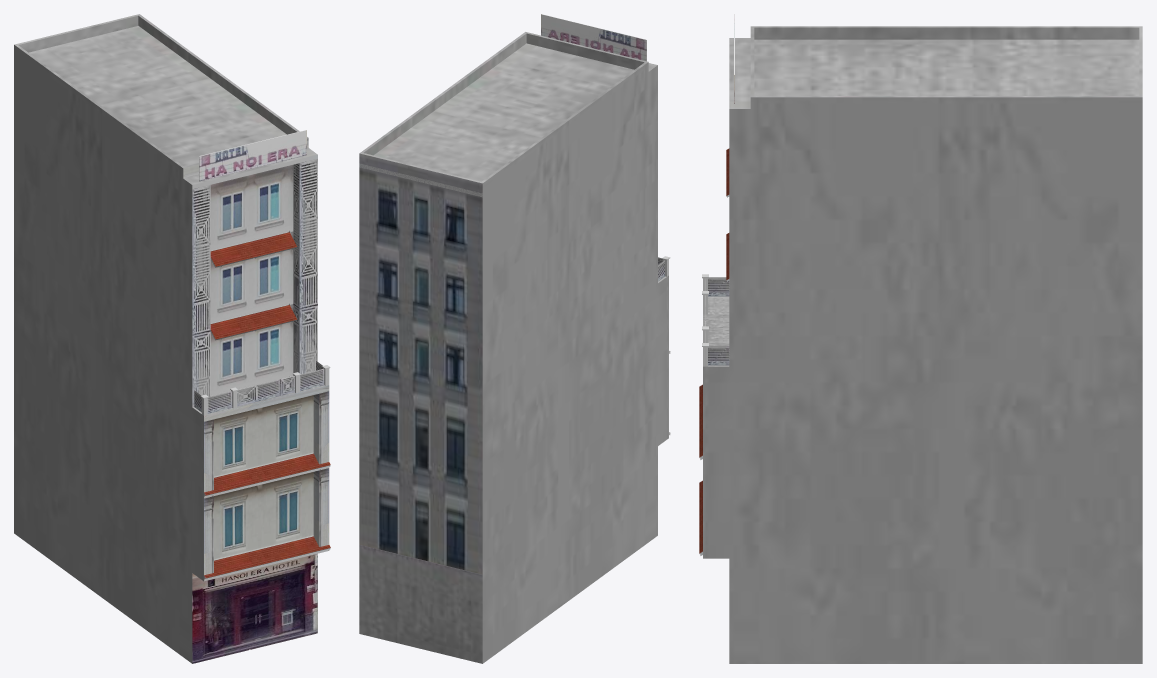
3 renders of one model, left to right at view 1: azimuth 30°, elevation 25°; view 2: azimuth 150°, elevation 25°; view 3: azimuth 270°, elevation 25°, orthographic. The views are drawn at different scales.
Visible parts, largest first — view 1: HN1003_HaNoiEraHotel; view 2: HN1003_HaNoiEraHotel; view 3: HN1003_HaNoiEraHotel.
Part boxes in pixels (bbox=[...]): HN1003_HaNoiEraHotel: bbox=[14, 14, 330, 663]; HN1003_HaNoiEraHotel: bbox=[359, 14, 670, 663]; HN1003_HaNoiEraHotel: bbox=[699, 14, 1142, 663].
Bounding box in the file's own units: 6.57 × 24.94 × 17.17.
Materials: 1 (1 with a texture image).
